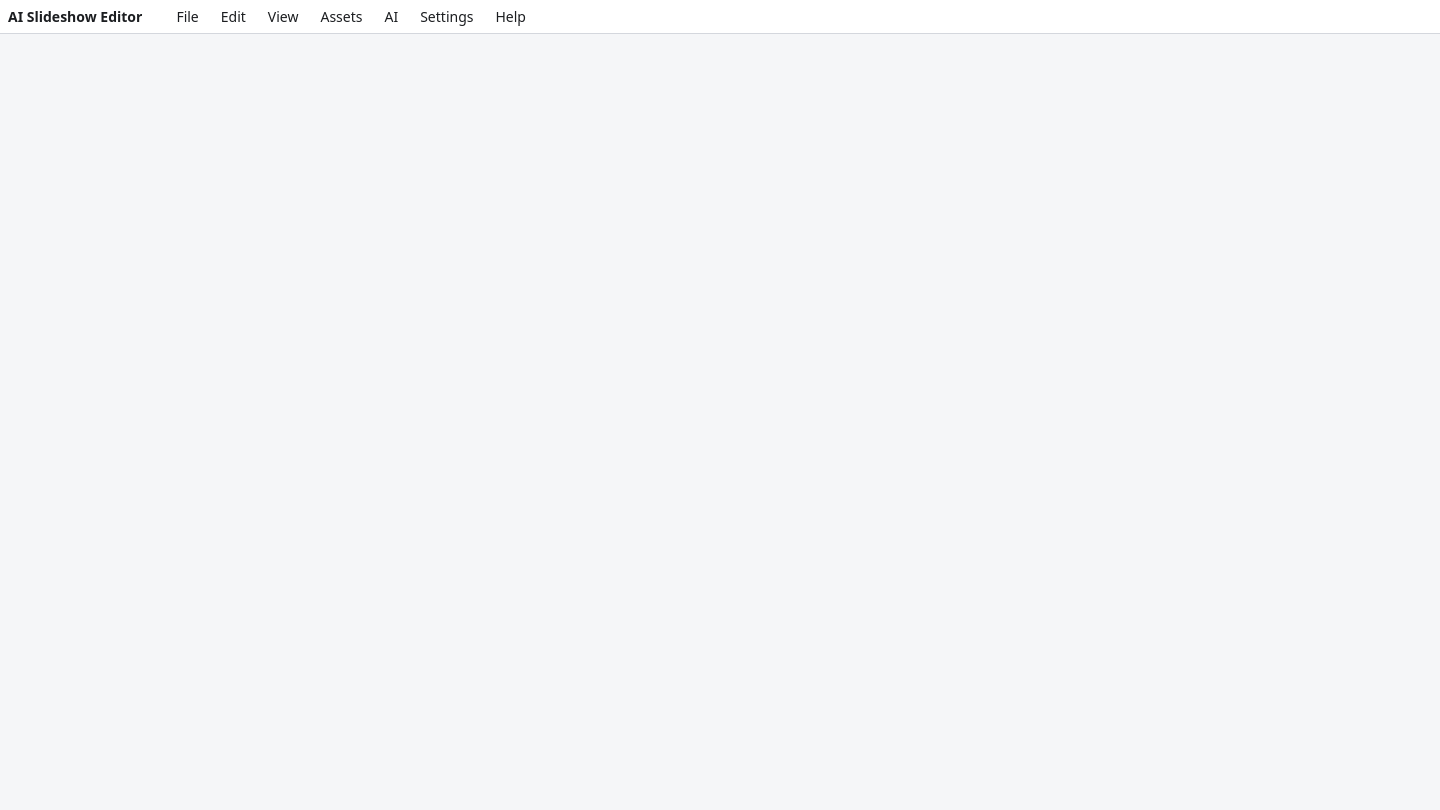
Test: MenuBar Help menu › opens the shortcuts modal from Help > Keyboard Shortcuts and closes it
Click the button "Help".
click(511, 16)  # box [486,4,536,29]
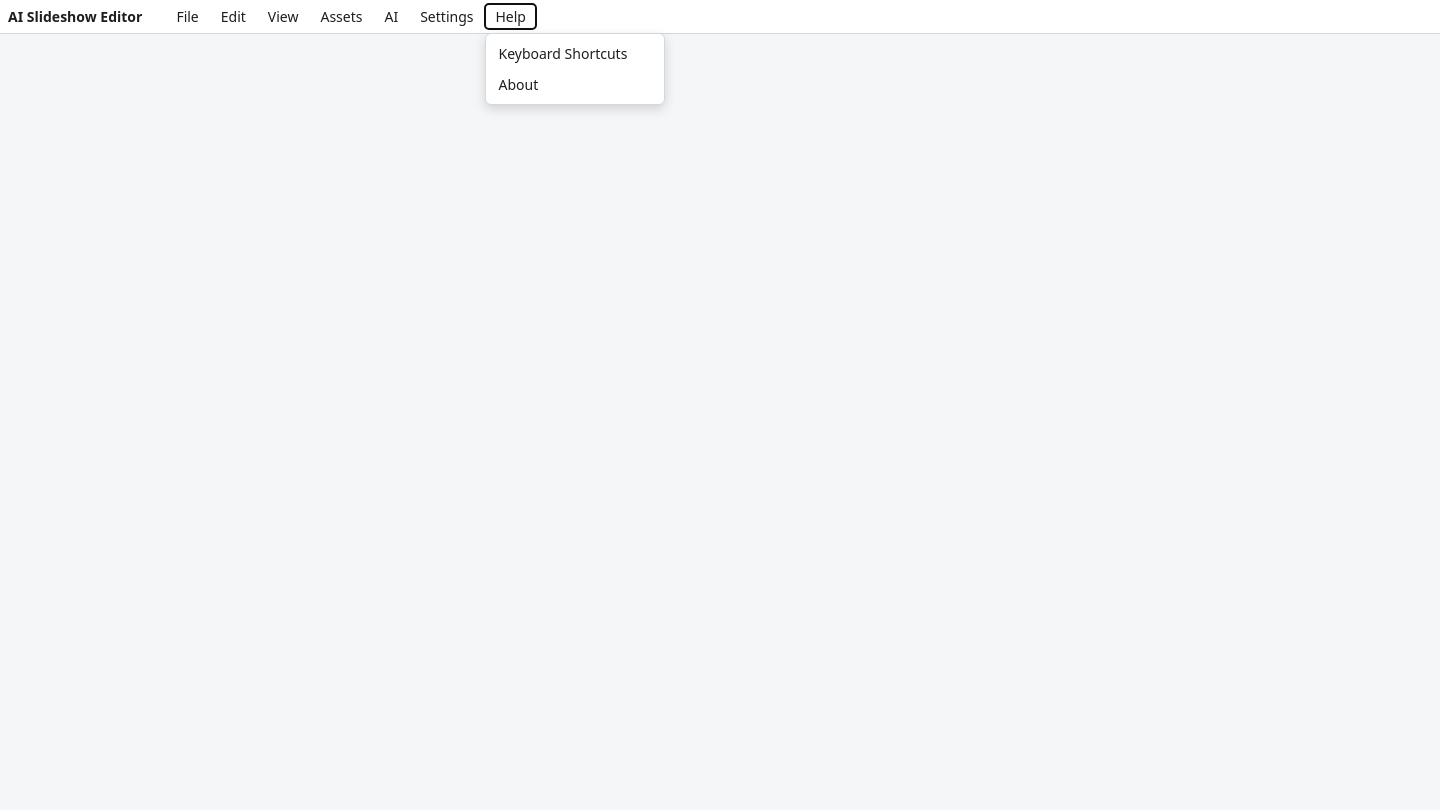
Click the menu item "Keyboard Shortcuts".
click(576, 54)  # box [486,38,664,69]
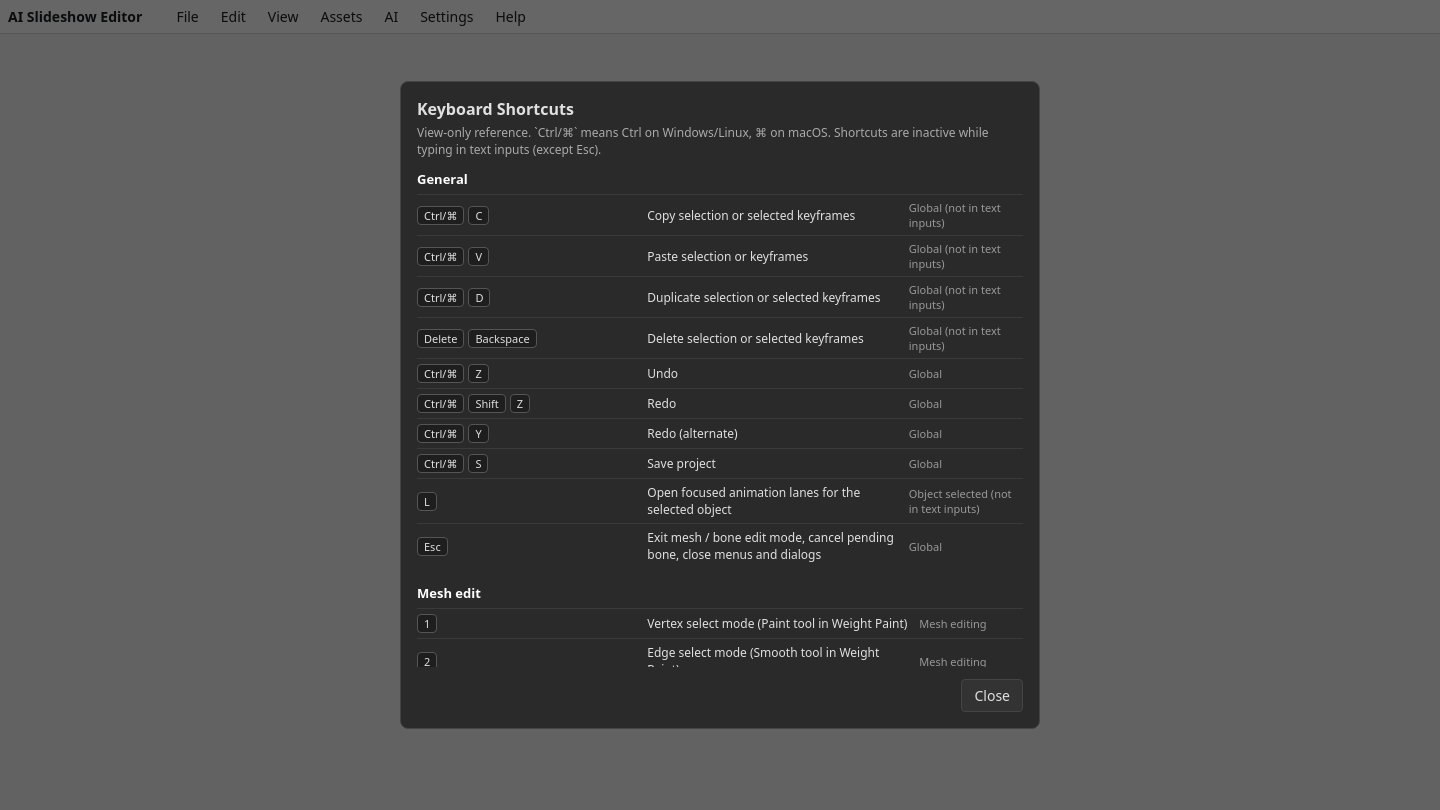
Result: the dialog with test id "keyboard-shortcuts-modal" is shown
Result: the text "Copy selection or selected keyframes" is shown at [647,194,909,236]
Click the button with test id "keyboard-shortcuts-close".
click(992, 696)  # box [962,679,1023,712]
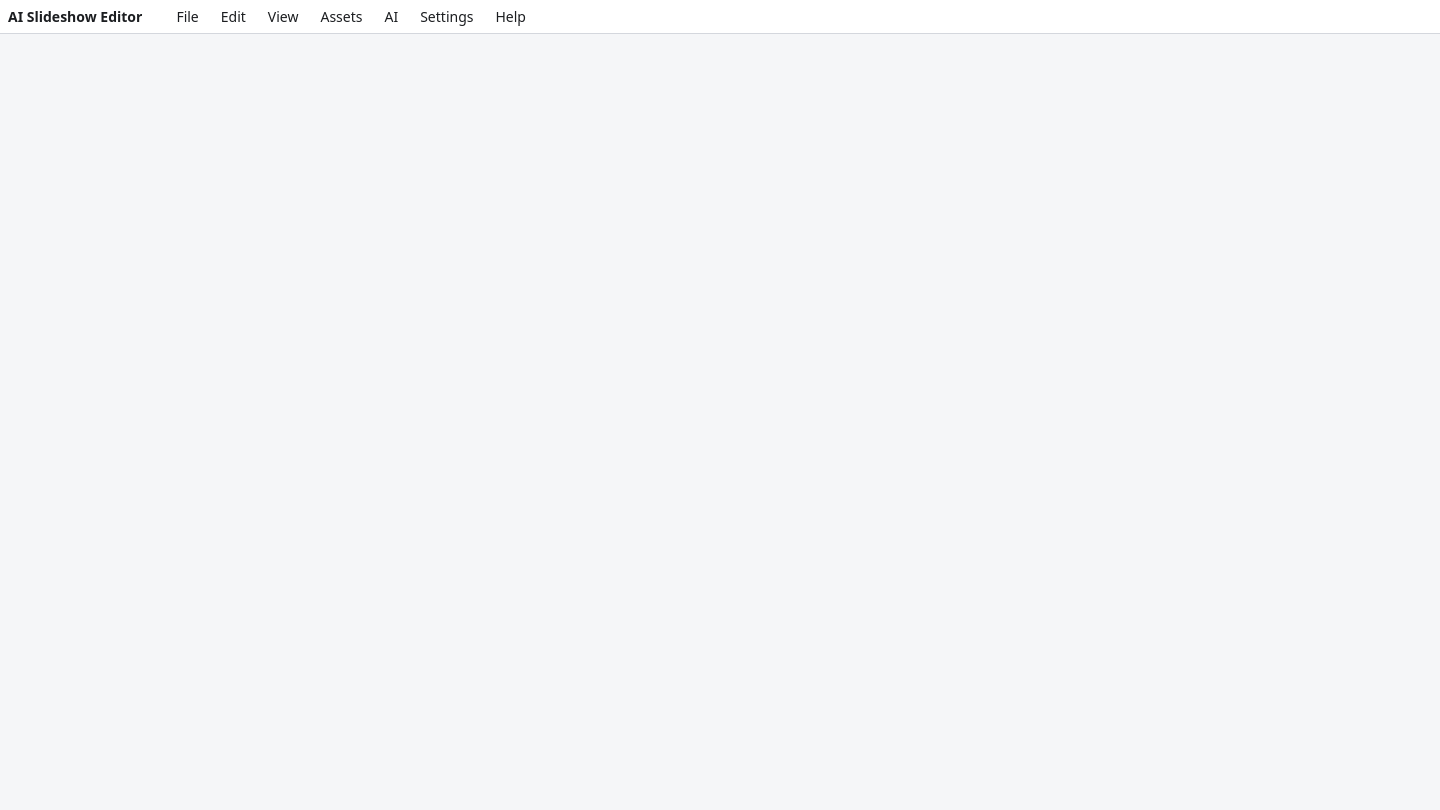
Result: the dialog with test id "keyboard-shortcuts-modal" is gone
